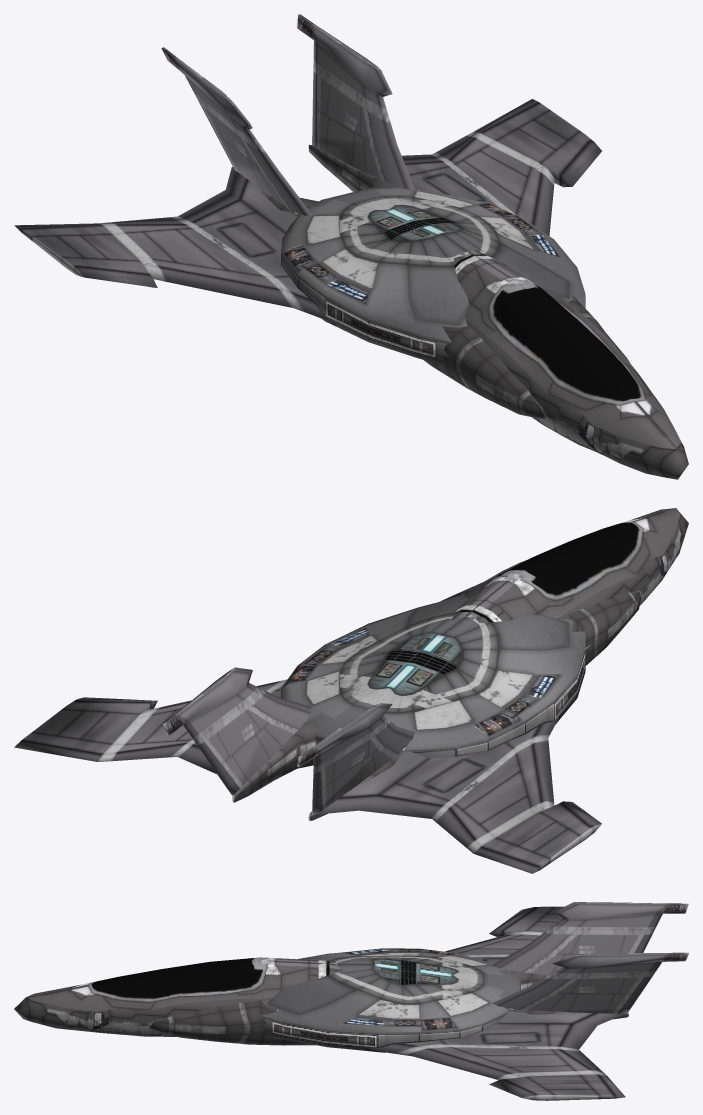
Rendered from redeemer.obj.
3 renders of one model, top to bottom at view 1: azimuth 30°, elevation 25°; view 2: azimuth 150°, elevation 25°; view 3: azimuth 270°, elevation 25°, orthographic. The views are drawn at different scales.
Bounding box in the file's own units: 11.79 × 3.18 × 17.85.
Materials: 1 (1 with a texture image).
